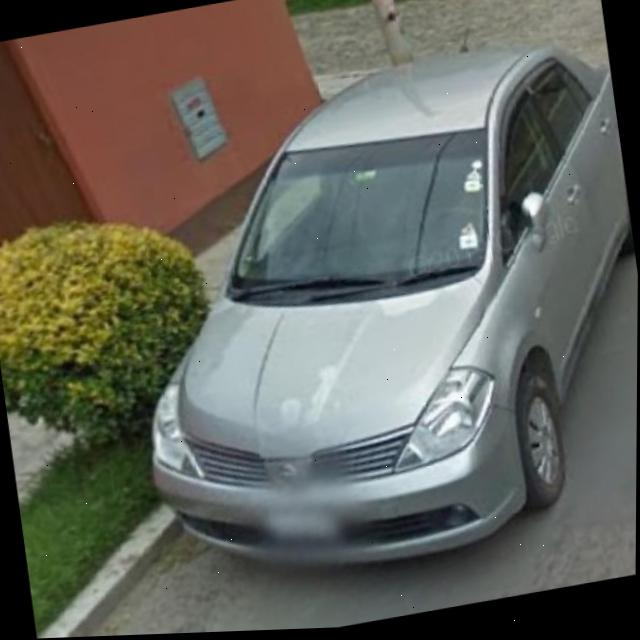vehicle: (105, 17, 640, 614)
